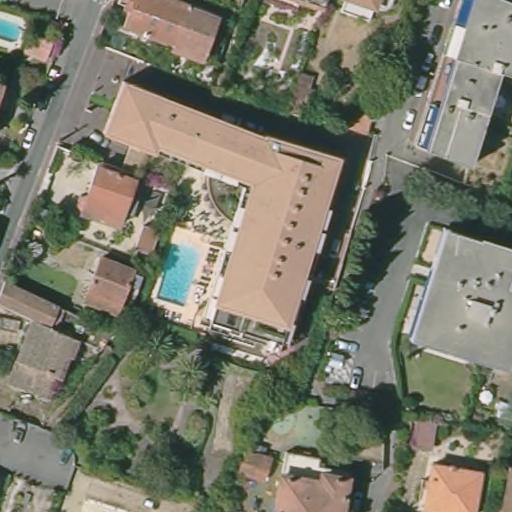pool: (156, 239, 202, 306), (0, 13, 29, 49)
